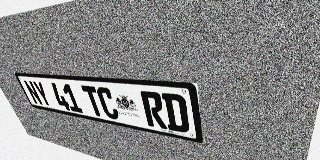1: (60, 83, 83, 113)
4: (49, 82, 71, 111)
C: (95, 87, 120, 120)
D: (161, 93, 190, 134)
N: (23, 80, 44, 105)
R: (140, 91, 167, 129)
T: (81, 85, 105, 117)
Y: (32, 81, 53, 107)
